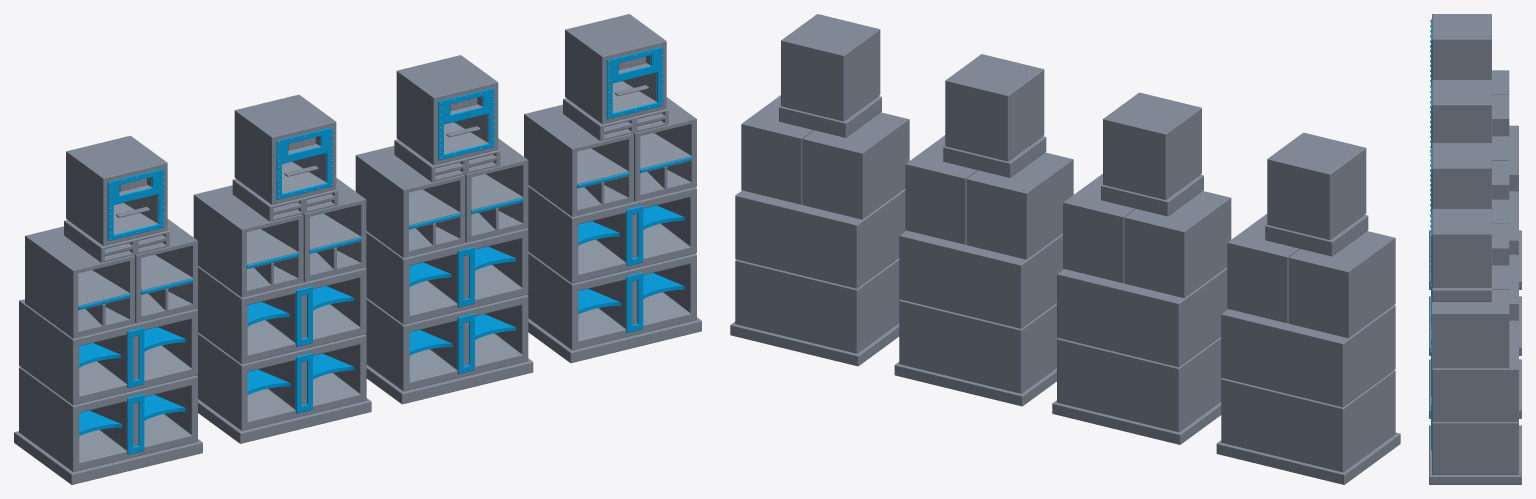
The model's file is SoundWall.fbx.
3 renders of one model, left to right at view 1: azimuth 30°, elevation 25°; view 2: azimuth 150°, elevation 25°; view 3: azimuth 270°, elevation 25°, orthographic. The views are drawn at different scales.
Parts seen in each view (by area): view 1: Bass_Upper, Bass_Lower, Bass_Upper.002, Bass_Lower.002, Bass_Upper.001, Bass_Lower.001, Bass_Upper.003, Bass_Lower.003, Mid_0, Mid_0.001, Mid_0.002, Mid_0.003 (+28 smaller); view 2: Bass_Upper, Bass_Upper.002, Bass_Upper.001, Bass_Lower, Bass_Upper.003, Bass_Lower.001, Bass_Lower.002, Bass_Lower.003, Mid_0, Top_Body.003, Top_Body.002, Top_Body (+16 smaller); view 3: Mid_1.002, Bass_Upper.002, Top_Body.002, Bass_Lower.002, Top_Body, Top_Body.003, Top_Body.001, Plinth.002, Riser.002, Mid_1, Mid_1.003, Mid_1.001 (+10 smaller).
Part boxes in pixels (left/top/right/bottom): Bass_Upper: left=19, top=299, right=197, bottom=405; Bass_Lower: left=19, top=367, right=197, bottom=471; Bass_Upper.002: left=527, top=185, right=696, bottom=283; Bass_Lower.002: left=527, top=252, right=696, bottom=350; Bass_Upper.001: left=197, top=266, right=366, bottom=363; Bass_Lower.001: left=197, top=332, right=366, bottom=430; Bass_Upper.003: left=366, top=228, right=528, bottom=324; Bass_Lower.003: left=365, top=294, right=528, bottom=391; Mid_0: left=25, top=226, right=134, bottom=338; Mid_0.001: left=193, top=185, right=303, bottom=297; Mid_0.002: left=524, top=104, right=633, bottom=216; Mid_0.003: left=355, top=146, right=465, bottom=257; Bass_Upper: left=1221, top=305, right=1395, bottom=407; Bass_Upper.002: left=735, top=189, right=905, bottom=288; Bass_Upper.001: left=1057, top=267, right=1227, bottom=367; Bass_Lower: left=1221, top=370, right=1395, bottom=472; Bass_Upper.003: left=899, top=230, right=1063, bottom=328; Bass_Lower.001: left=1057, top=336, right=1222, bottom=432; Bass_Lower.002: left=735, top=258, right=900, bottom=353; Bass_Lower.003: left=899, top=299, right=1057, bottom=393; Mid_0: left=1288, top=231, right=1395, bottom=338; Top_Body.003: left=945, top=54, right=1044, bottom=161; Top_Body.002: left=781, top=14, right=880, bottom=121; Top_Body: left=1267, top=132, right=1366, bottom=239; Mid_1.002: left=1432, top=290, right=1509, bottom=368; Bass_Upper.002: left=1432, top=320, right=1518, bottom=421; Top_Body.002: left=1432, top=209, right=1491, bottom=287; Bass_Lower.002: left=1432, top=421, right=1518, bottom=474; Top_Body: left=1432, top=14, right=1491, bottom=79; Top_Body.003: left=1432, top=143, right=1491, bottom=208; Top_Body.001: left=1432, top=80, right=1491, bottom=142; Plinth.002: left=1429, top=425, right=1521, bottom=484; Riser.002: left=1432, top=288, right=1491, bottom=301; Mid_1: left=1492, top=95, right=1509, bottom=136; Mid_1.003: left=1492, top=224, right=1509, bottom=265; Mid_1.001: left=1492, top=161, right=1509, bottom=199.
Size of the model in its own units: 6.04 by 2.72 by 0.96.
